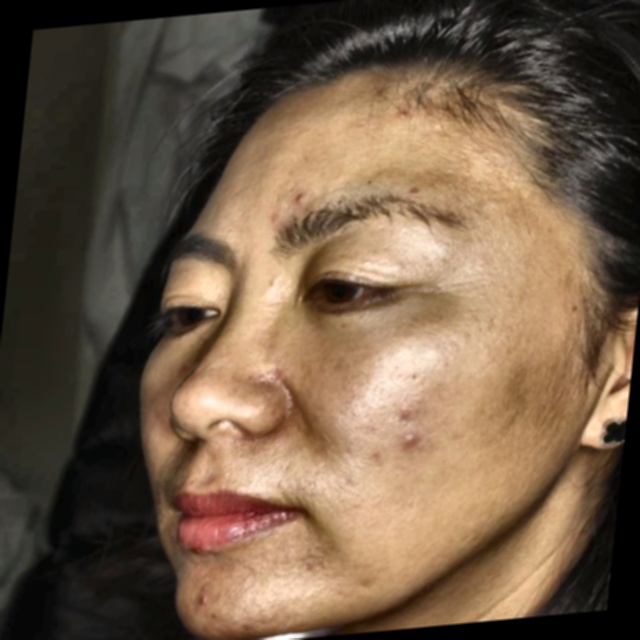comedone: (187, 584, 234, 614), (384, 421, 428, 453), (278, 187, 311, 215), (389, 98, 415, 130)
